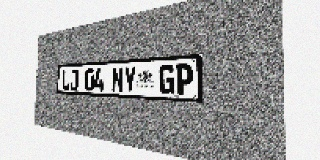0: (84, 68, 94, 91)
4: (94, 68, 105, 92)
G: (159, 64, 175, 94)
J: (70, 69, 78, 91)
L: (62, 70, 70, 90)
N: (112, 67, 124, 92)
P: (175, 63, 193, 95)
Y: (123, 66, 136, 93)
